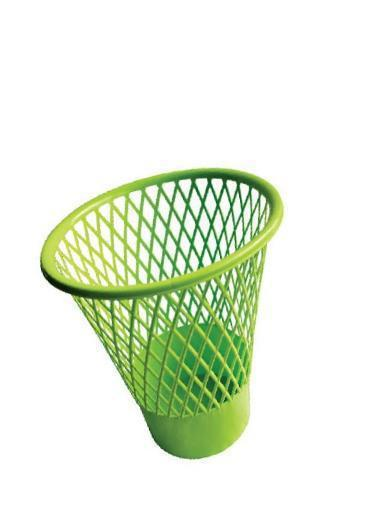Bote de Basura: (40, 163, 284, 456)
